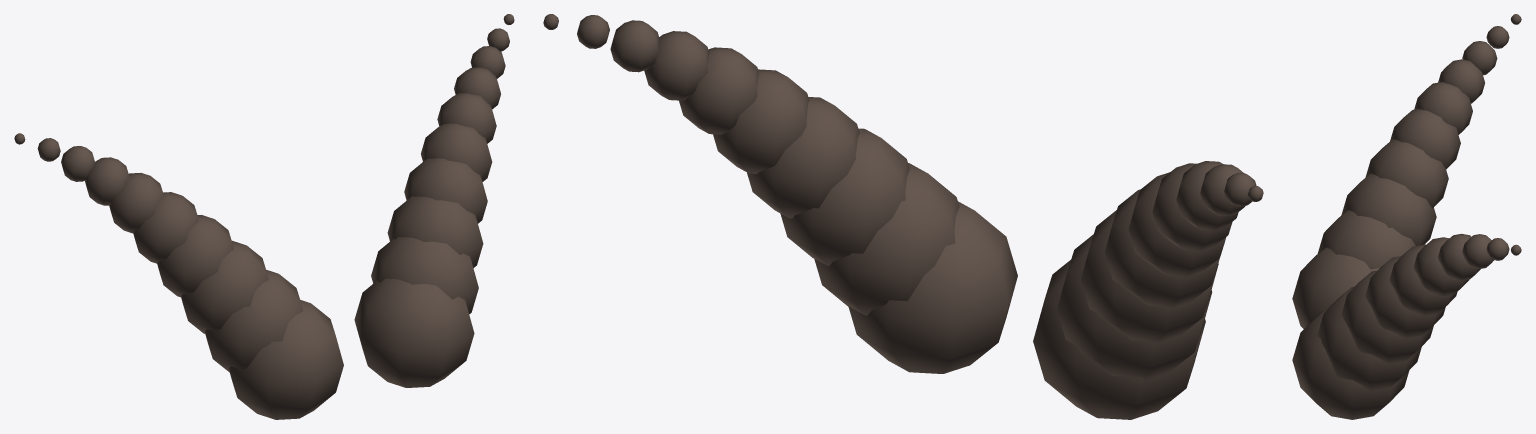
File: horns.glb
3 views of the same model, side by side, from view 1: azimuth 30°, elevation 25°; view 2: azimuth 150°, elevation 25°; view 3: azimuth 270°, elevation 25° (orthographic). The views are drawn at different scales.
Parts seen in each view (by area): view 1: horns; view 2: horns; view 3: horns.
Boxes of the visible parts, <box> form: horns: <box>14,14,514,419</box>; horns: <box>543,14,1263,419</box>; horns: <box>1292,14,1521,419</box>.
Size of the model in its own units: 0.612 by 0.3079 by 0.252.
